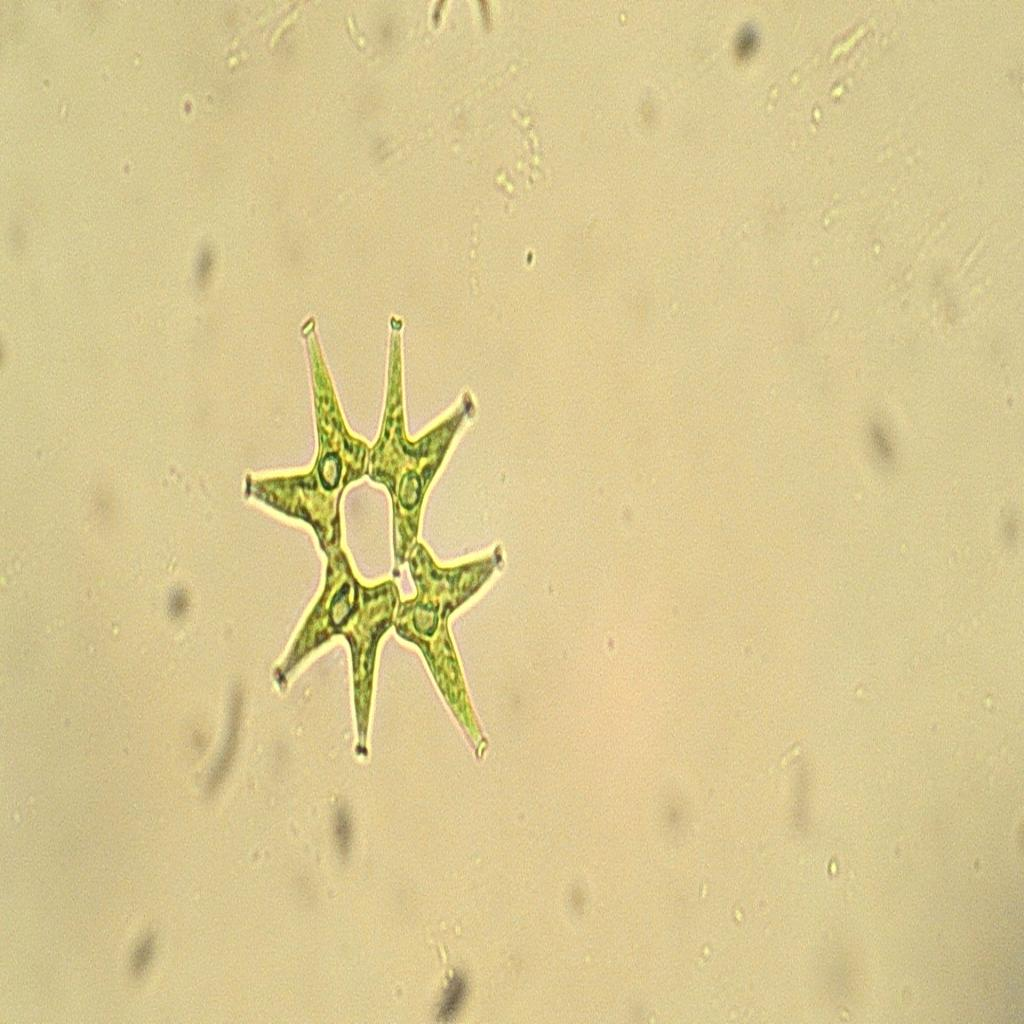Pediastrum_75FO: (230, 298, 525, 803)
